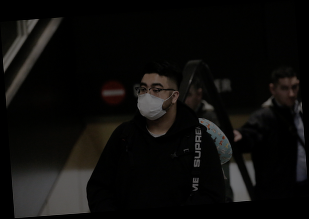with_mask: (136, 79, 172, 121)
without_mask: (279, 80, 302, 107)
